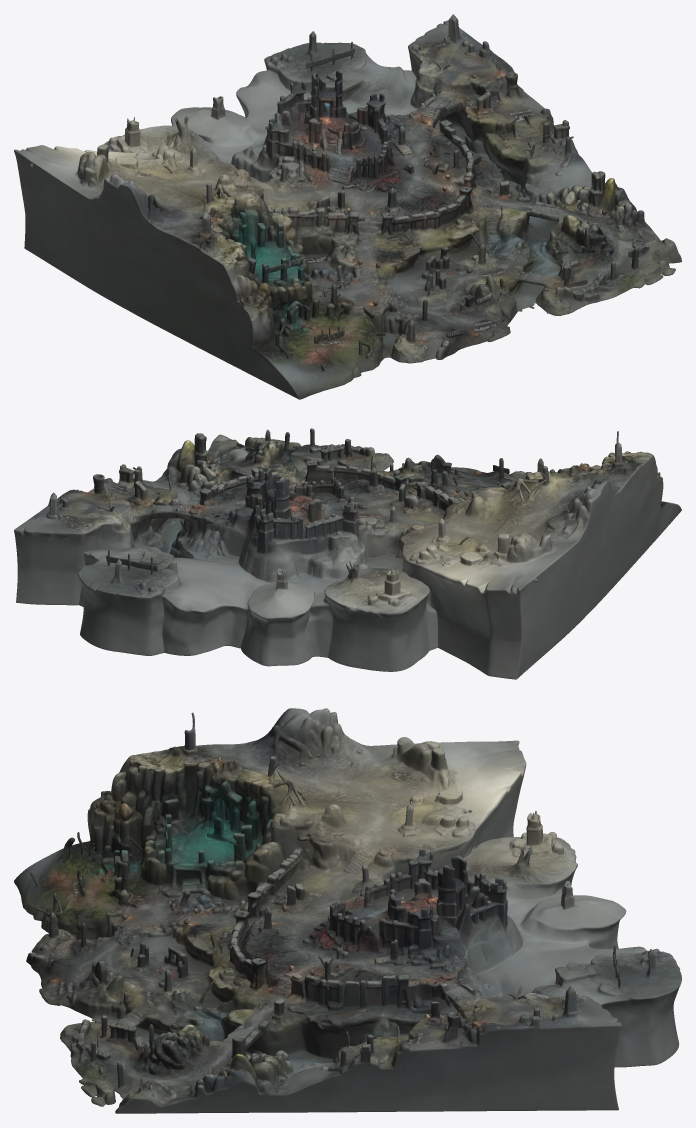
The model's file is ashenreach_terrain_high.glb.
3 renders of one model, top to bottom at view 1: azimuth 30°, elevation 25°; view 2: azimuth 150°, elevation 25°; view 3: azimuth 270°, elevation 25°, orthographic. The views are drawn at different scales.
Visible parts, largest first — view 1: tripo_node_59ed08d0-be71-4d79-9df4-5d5d14300270; view 2: tripo_node_59ed08d0-be71-4d79-9df4-5d5d14300270; view 3: tripo_node_59ed08d0-be71-4d79-9df4-5d5d14300270.
Part boxes in pixels (<box>): tripo_node_59ed08d0-be71-4d79-9df4-5d5d14300270: <box>14,14,681,399</box>; tripo_node_59ed08d0-be71-4d79-9df4-5d5d14300270: <box>14,428,681,679</box>; tripo_node_59ed08d0-be71-4d79-9df4-5d5d14300270: <box>14,708,681,1113</box>.
Size of the model in its own units: 0.9376 by 0.2671 by 1.
Materials: 1 (1 with a texture image).
